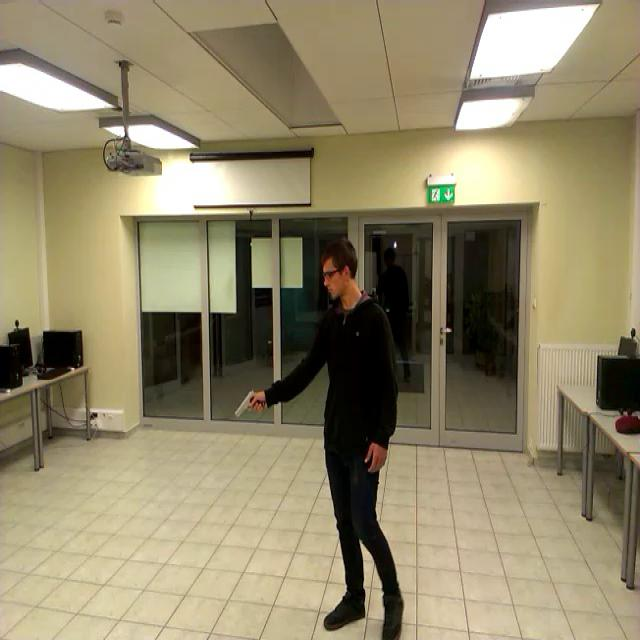handgun: (230, 385, 268, 424)
